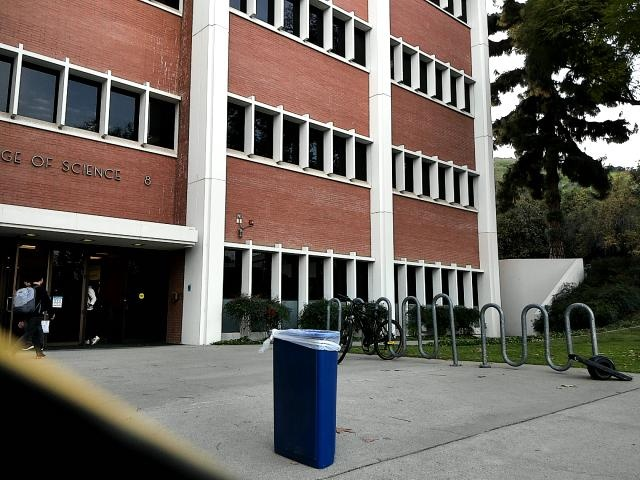trashcan_open: (265, 323, 341, 477)
